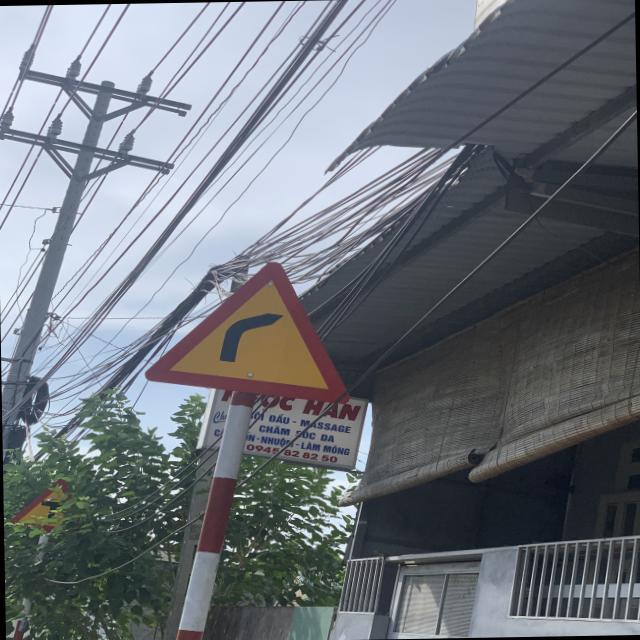Duong_Nguoi_Di_Bo_Cat_Ngang: (140, 257, 350, 407)
